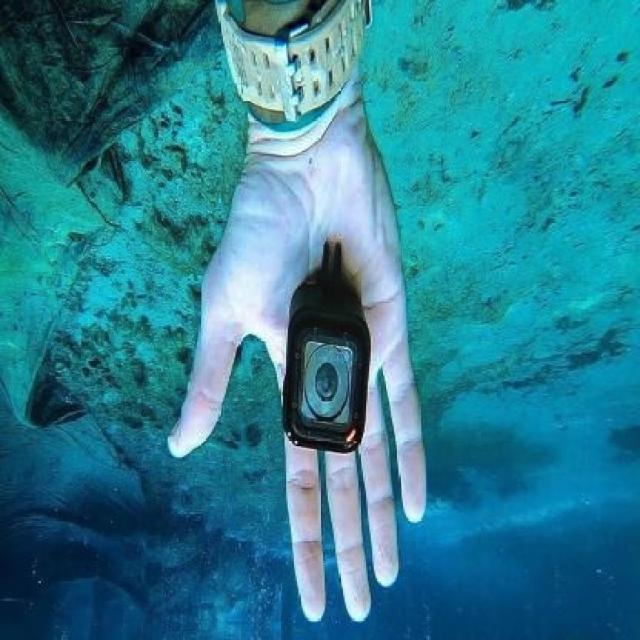electronics: (285, 280, 372, 465)
